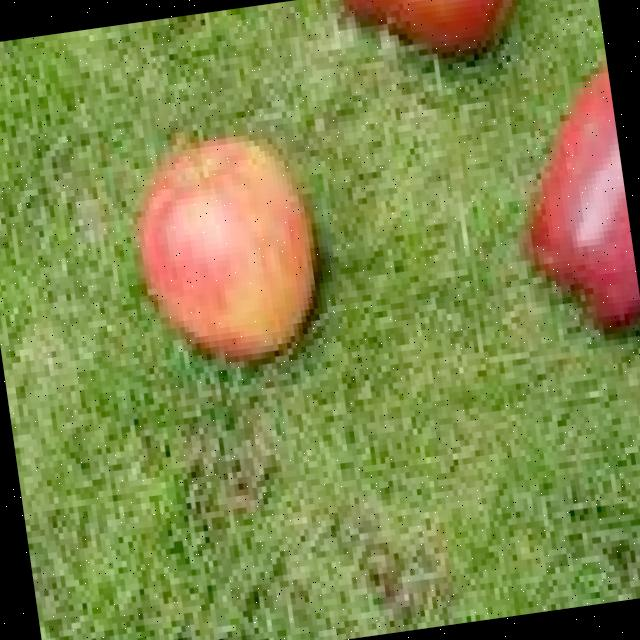Good_Apple 10-21 days: (138, 145, 311, 357), (529, 66, 640, 326), (343, 0, 511, 49)
